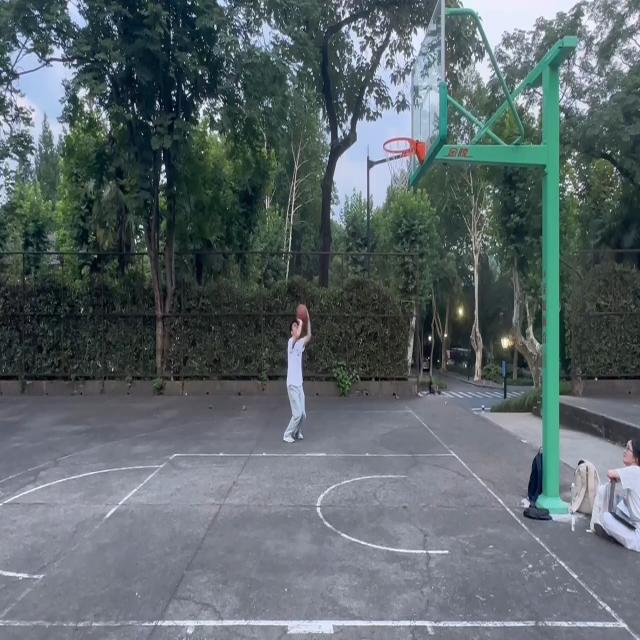basketball: (383, 138, 426, 191)
rim: (297, 304, 308, 323)
